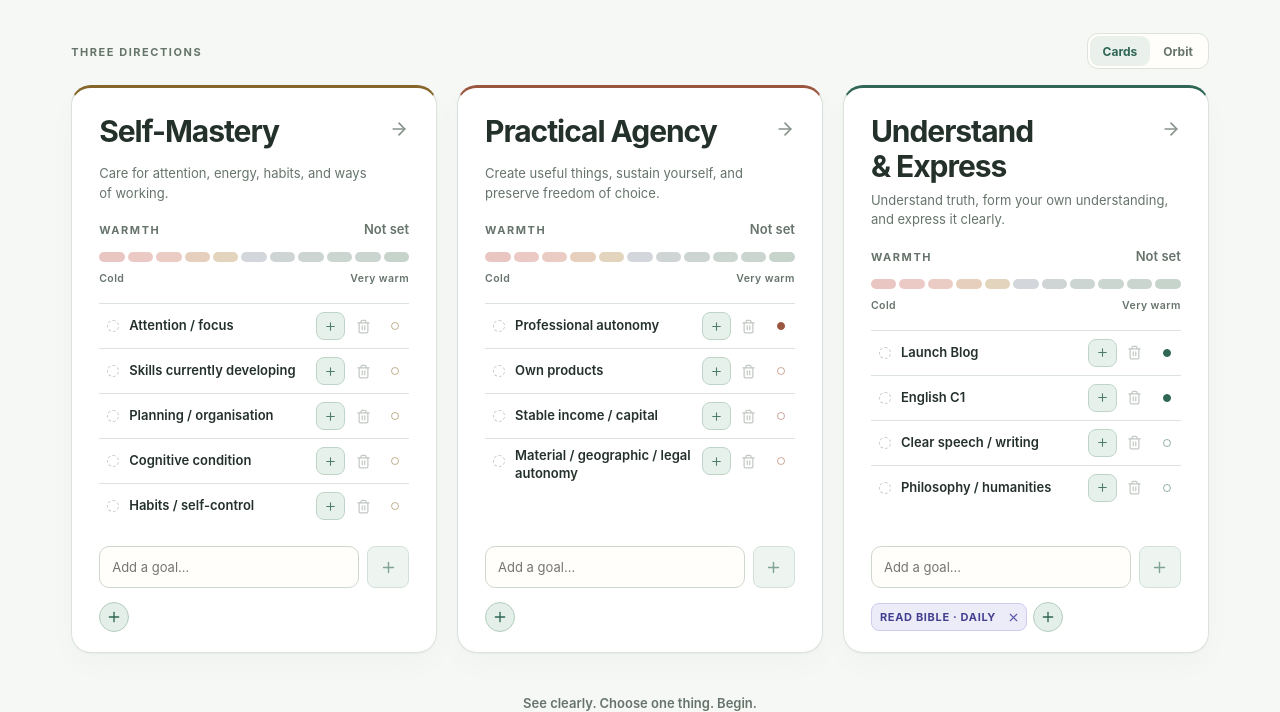
Soul compass › does not leave an archived goal behind in the history
The image size is (1280, 712).
(page scrolled)
Click the button "Launch Blog" at (940, 352), box [871, 331, 1181, 375]
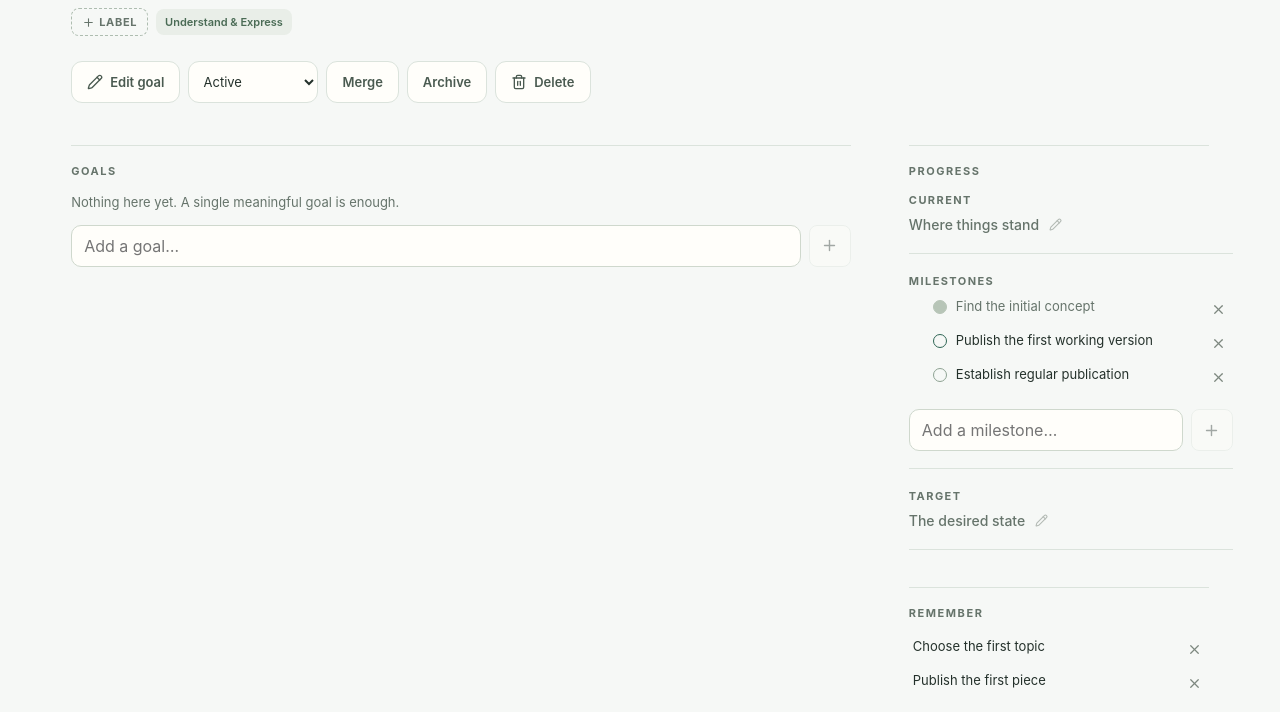
Click the button "Archive" at (447, 82), box [407, 61, 487, 103]
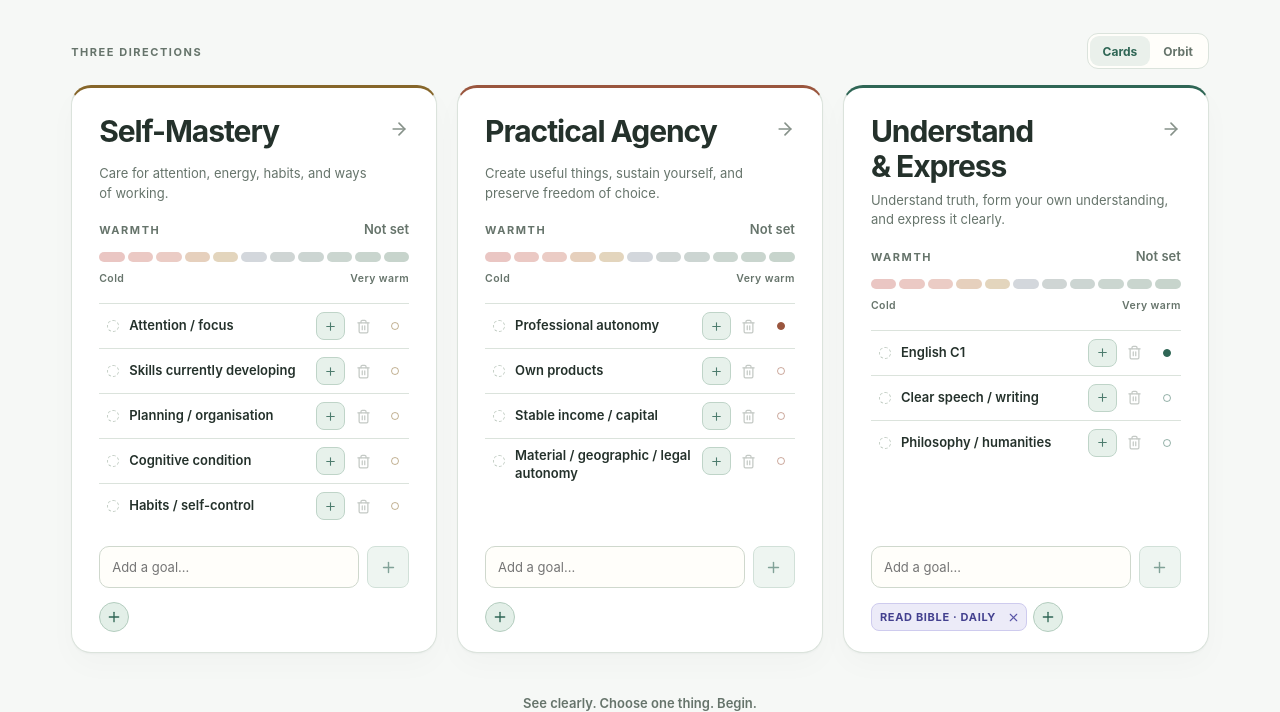
Check: the heading "Three directions" is shown, box [71, 44, 202, 58]
